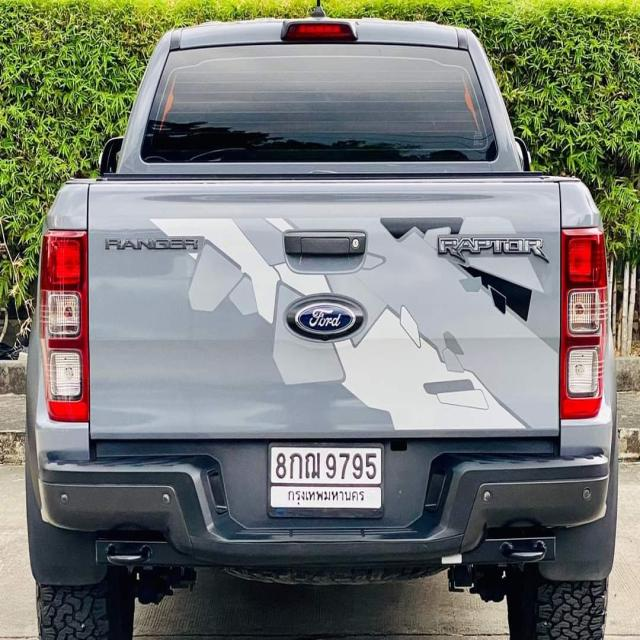license_plate: (268, 443, 384, 517)
